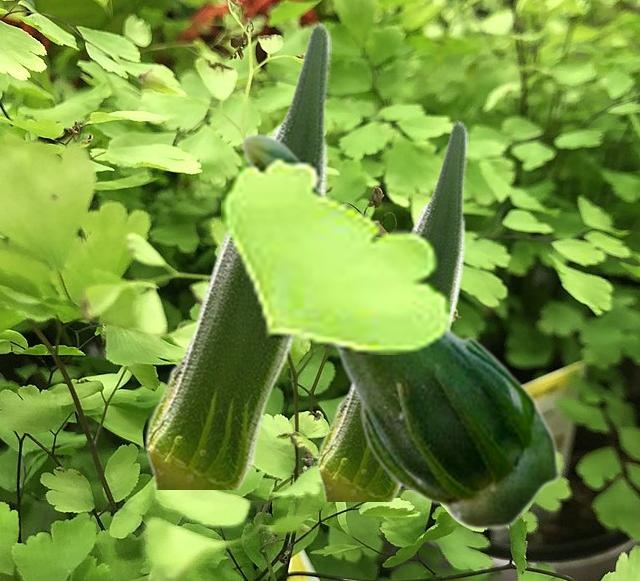okra: (240, 132, 560, 530), (144, 20, 330, 488), (316, 119, 467, 500)
